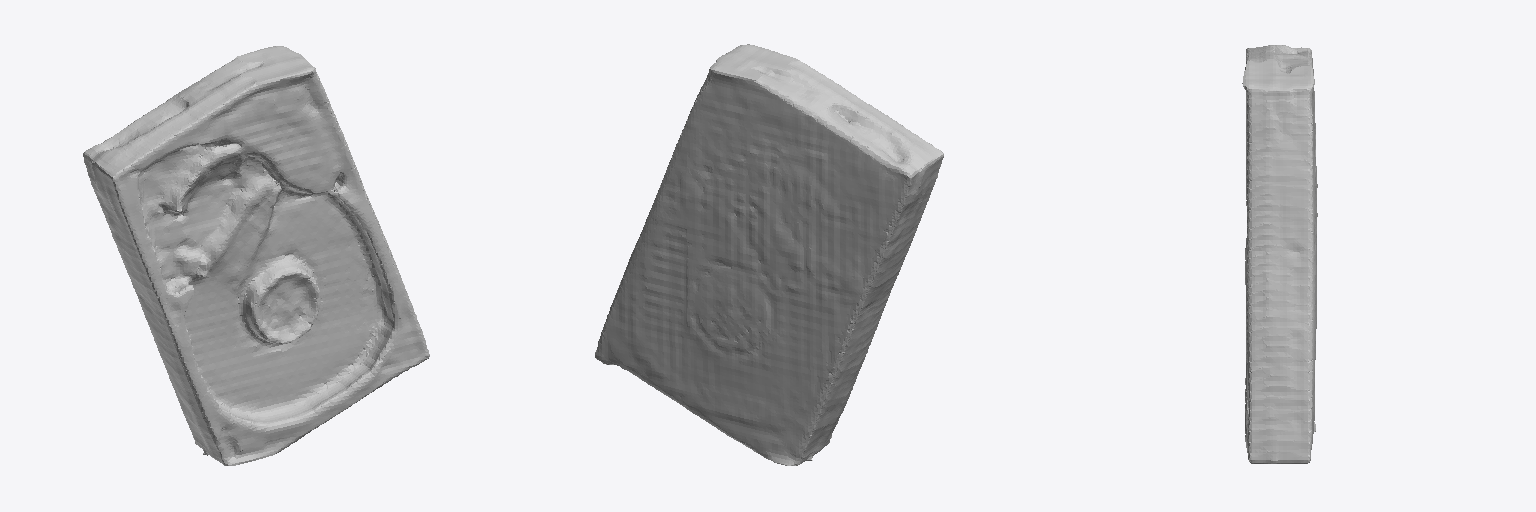
The model's file is replicate-prediction-rypqdhdfksrgm0cf8yrrypn178-2.obj.
3 renders of one model, left to right at view 1: azimuth 30°, elevation 25°; view 2: azimuth 150°, elevation 25°; view 3: azimuth 270°, elevation 25°, orthographic.
Size of the model in its own units: 1.76 by 1.99 by 0.3569.